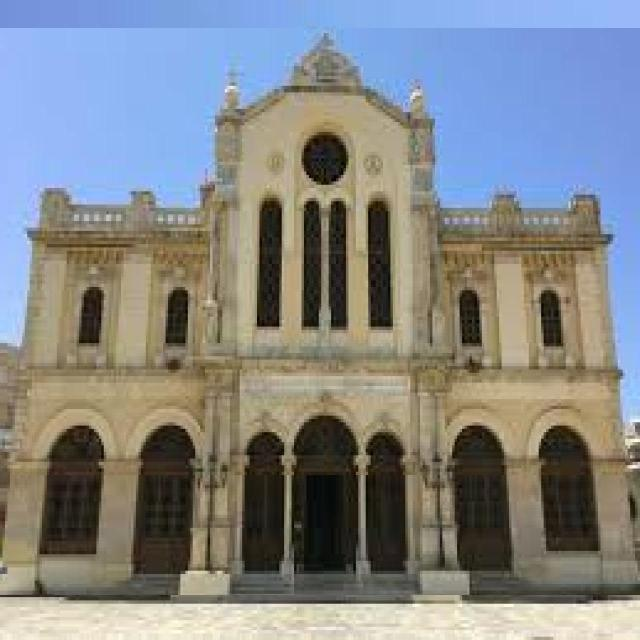Agios Minas: (1, 29, 640, 596)
